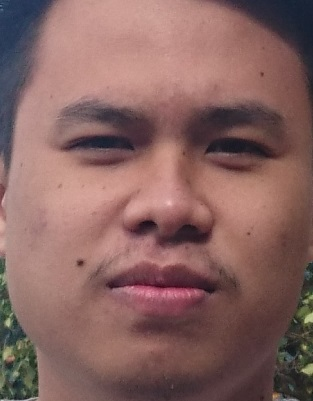bekas: (167, 88, 179, 100), (26, 239, 37, 251), (36, 206, 47, 216), (29, 226, 41, 235), (209, 81, 220, 90), (39, 218, 49, 227), (279, 238, 289, 247), (279, 230, 289, 238), (182, 242, 190, 251), (159, 99, 169, 106)
